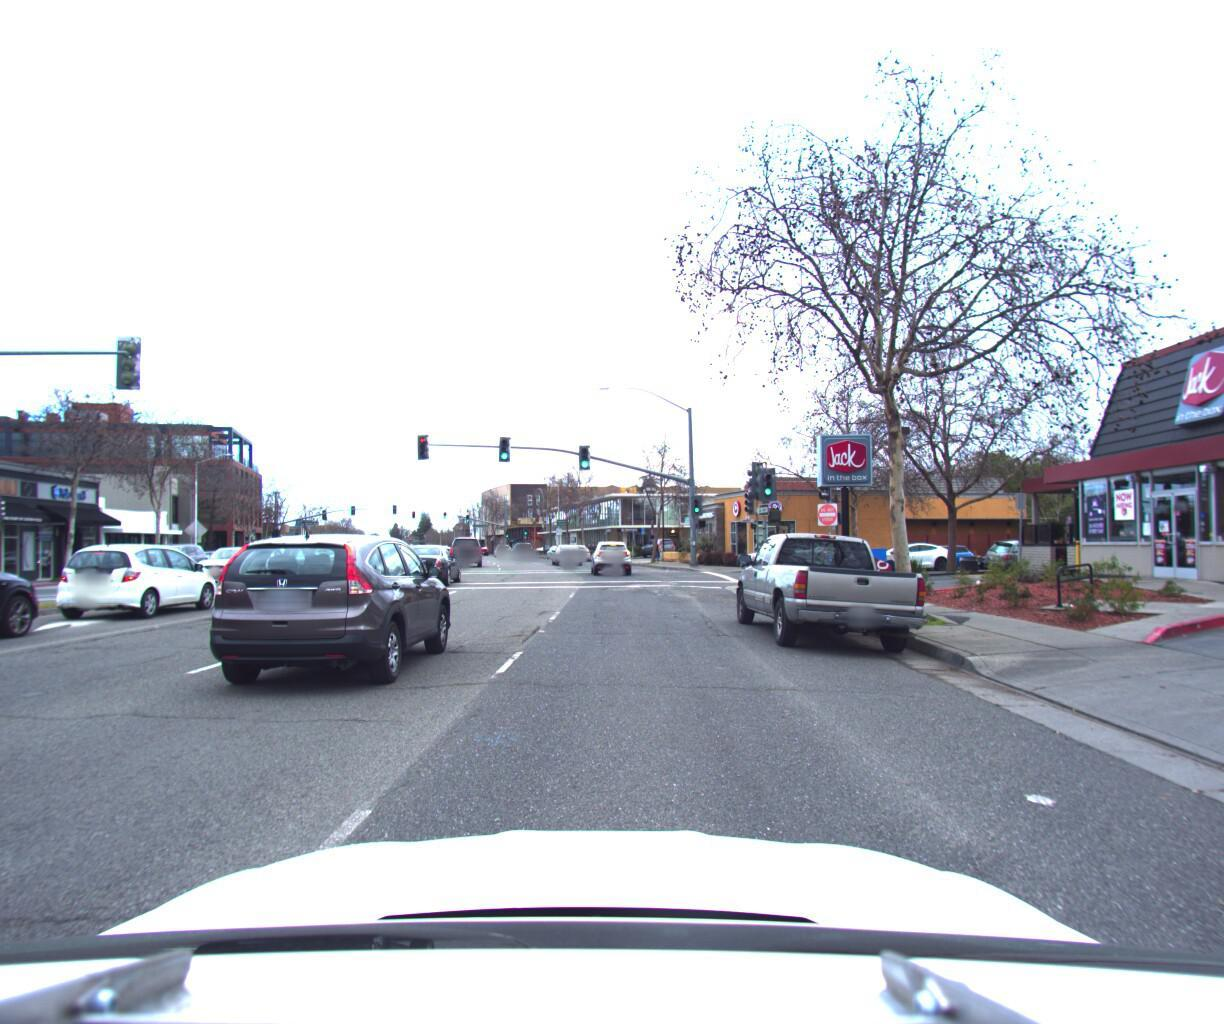car: (196, 527, 458, 699), (730, 522, 930, 657), (38, 534, 237, 616), (0, 529, 75, 666), (973, 528, 1091, 573), (184, 533, 278, 574), (847, 532, 955, 566), (388, 536, 470, 582), (734, 530, 832, 565), (900, 534, 975, 562), (591, 532, 635, 569), (451, 526, 485, 560), (549, 535, 582, 563), (637, 529, 678, 549), (508, 533, 537, 552), (564, 536, 592, 553)
